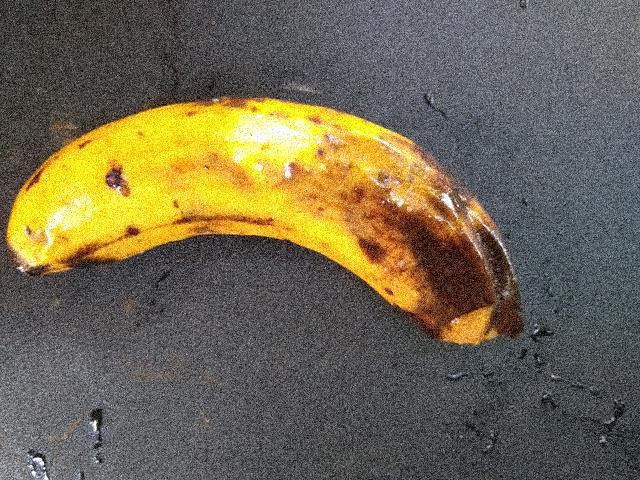ripe: (0, 80, 332, 289)
rotten: (292, 101, 522, 354)
